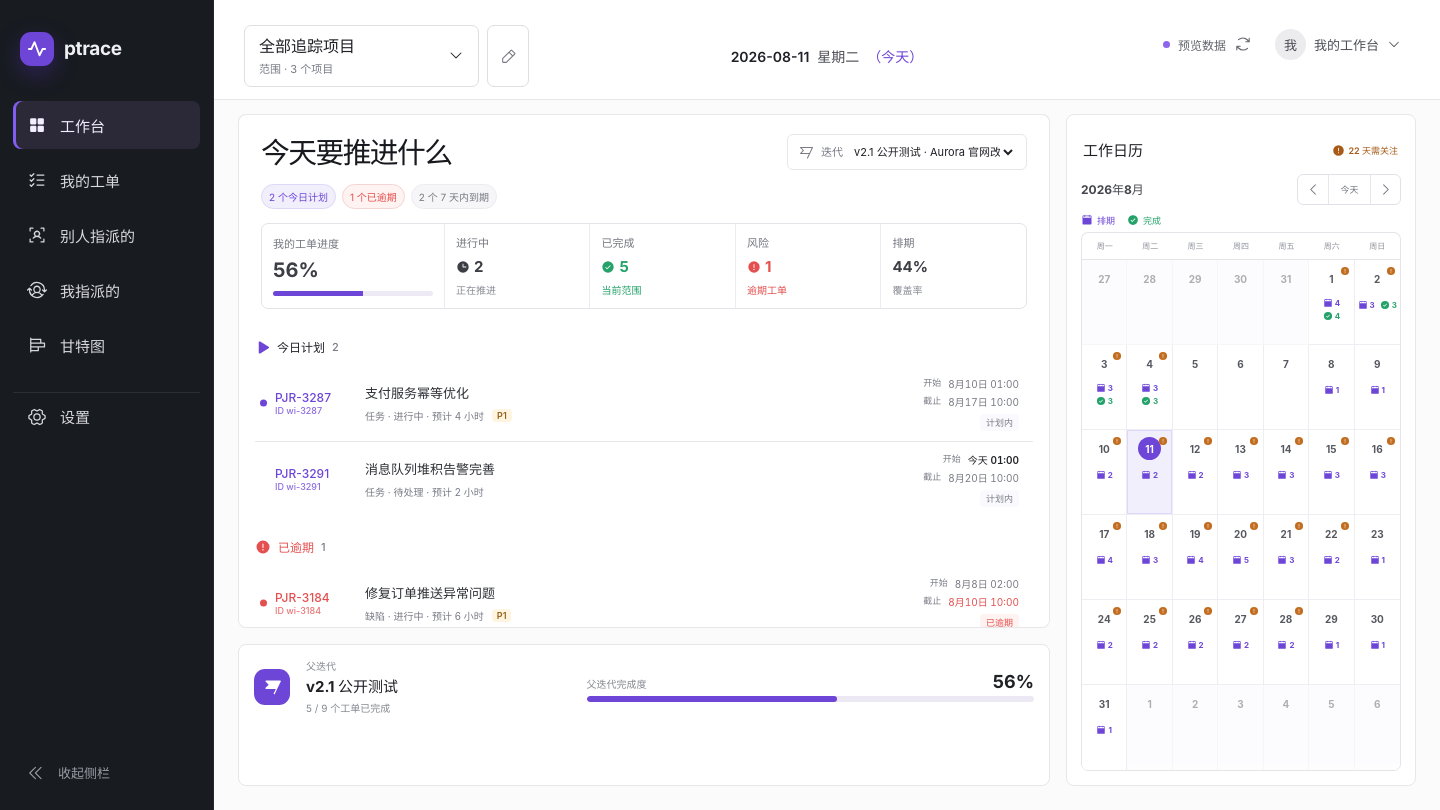
Scenario: PtraceDesk core interactions › focuses a workitem and opens details by clicking the row
Expected: the text "PJR-3291" is shown, [275,467,329,480]
Expected: the text "ID wi-3291" is shown, [275,482,321,492]
Click the button with aria-label "PJR-3291 消息队列堆积告警完善，ID wi-3291，查看详情" at (302, 473), box [255,442,1033,517]
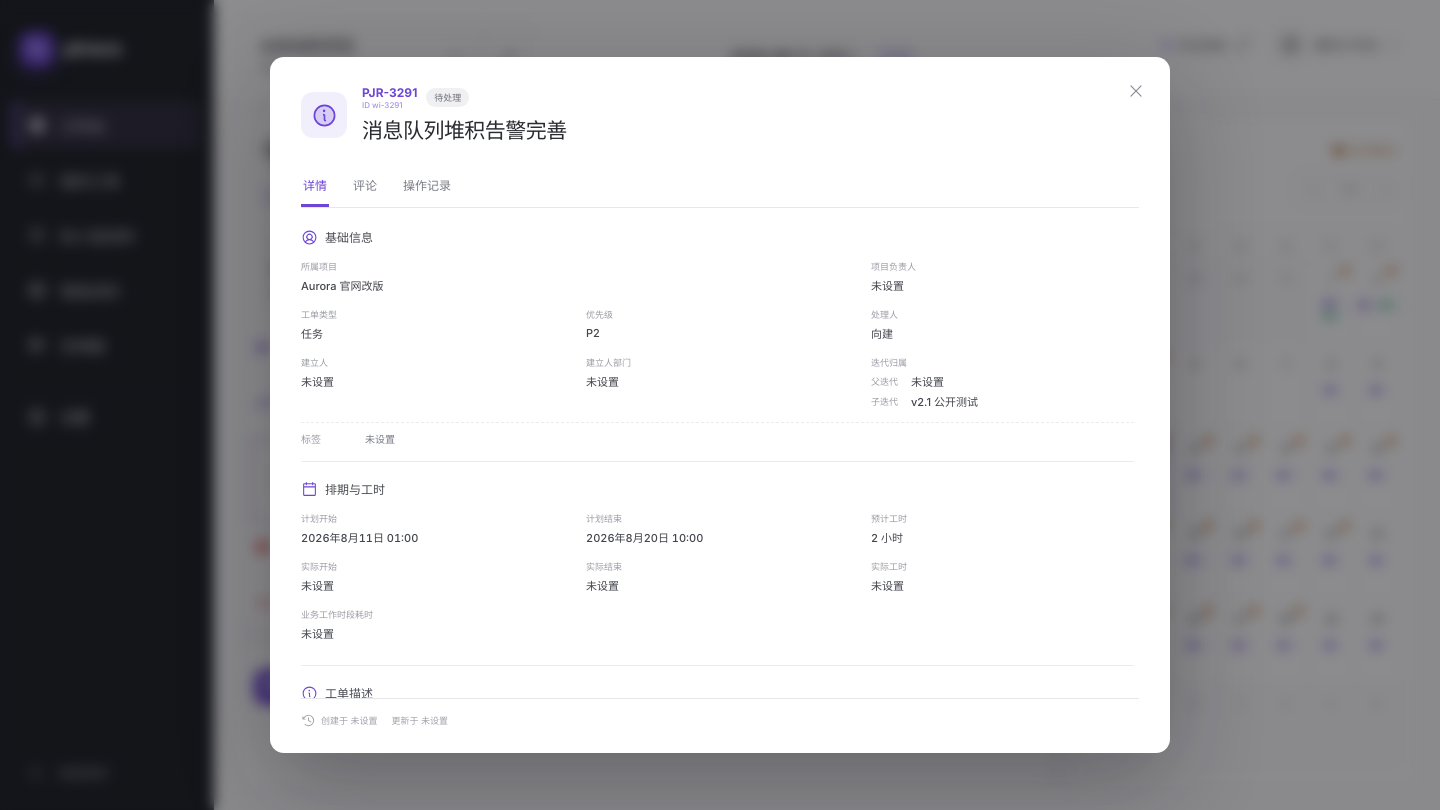
Now the dialog "消息队列堆积告警完善" is shown, box [270,57,1170,753]
